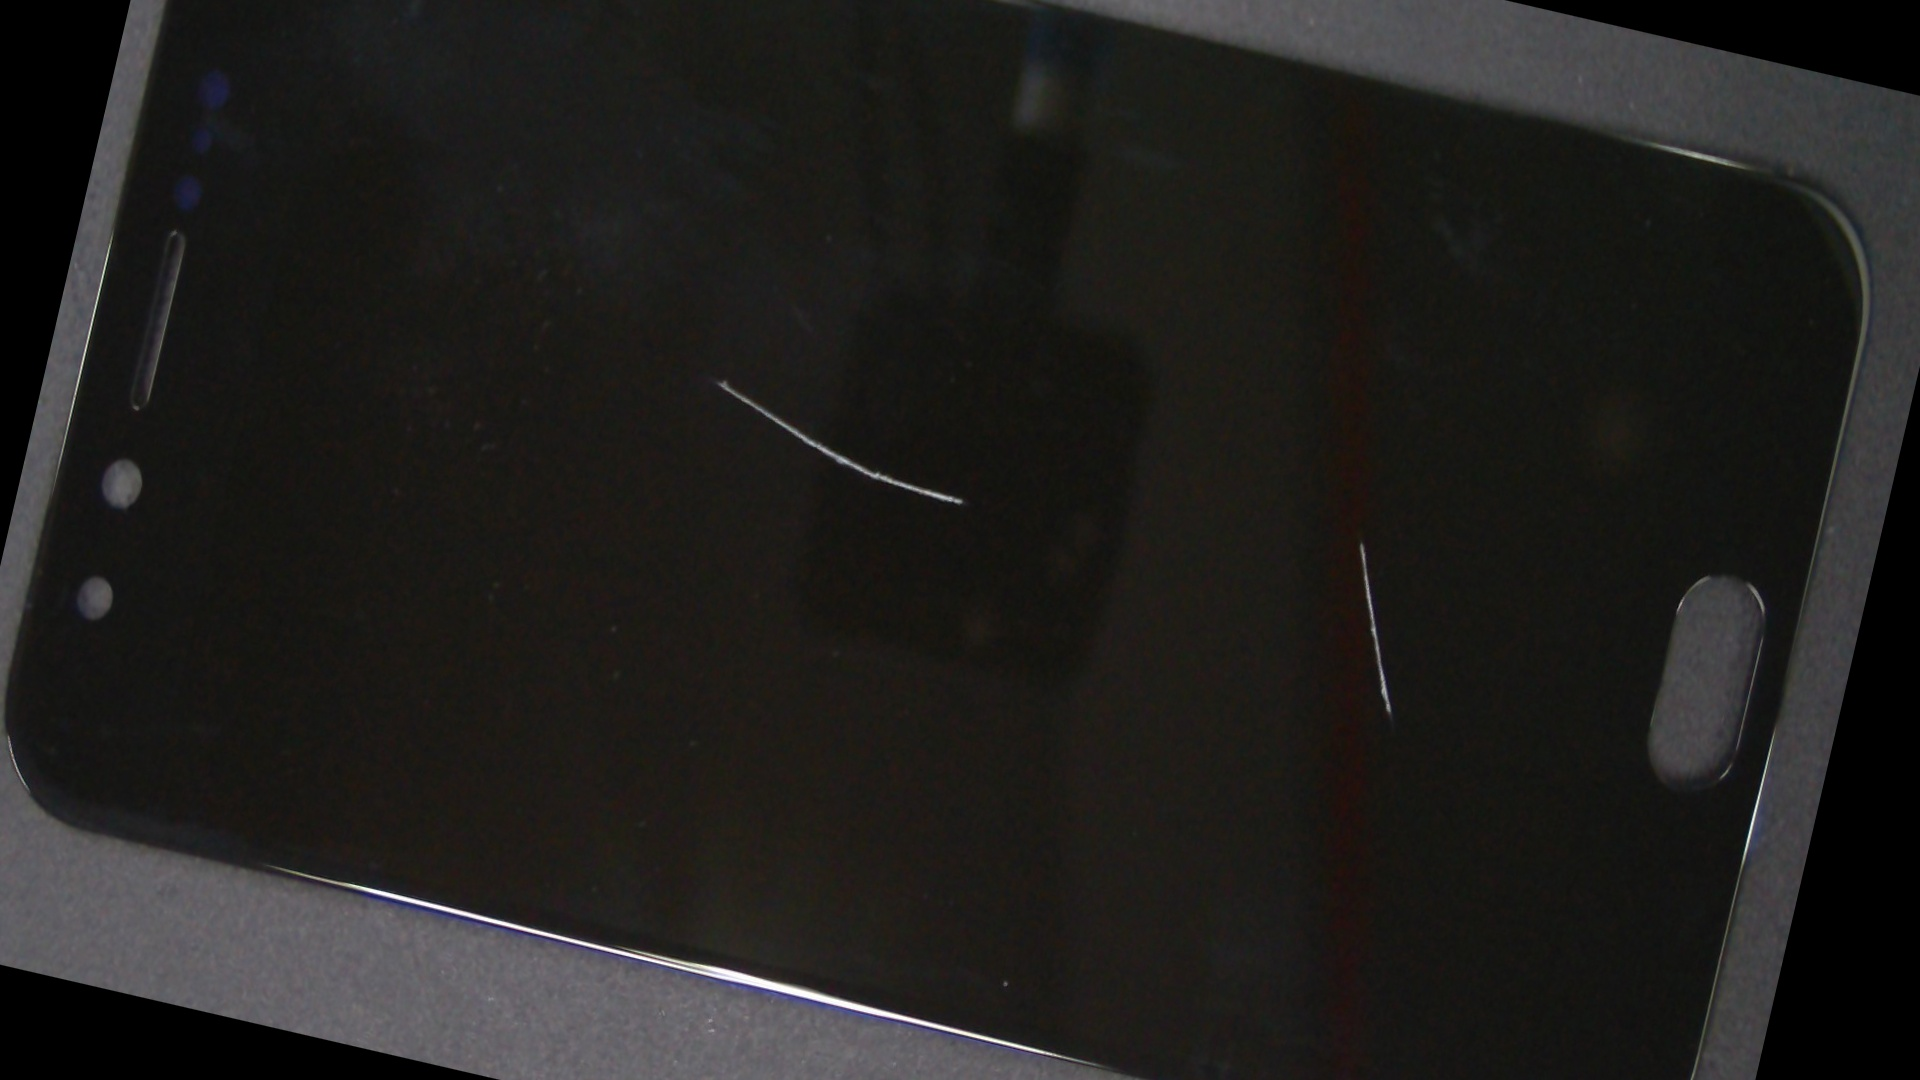oil: (655, 120, 1916, 930), (339, 38, 1106, 720)
